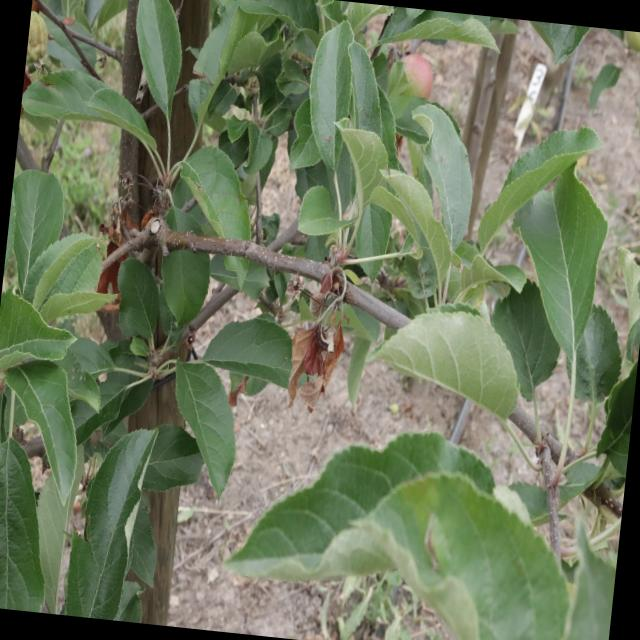-FireBlight-: (278, 271, 347, 409)
